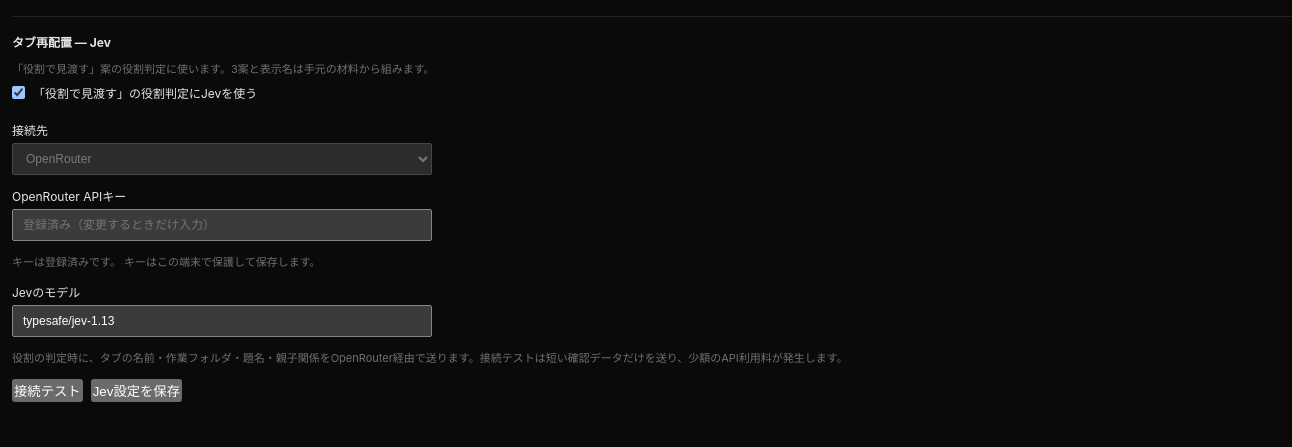
Scenario: Jev settings › renders a saved-key placeholder with an empty password field and saves without exposing it
Check: the password field labelled "OpenRouter APIキー" is empty, box [12,209,432,241]
Click the button "Jev設定を保存" at [136, 391], box [91,379,182,402]
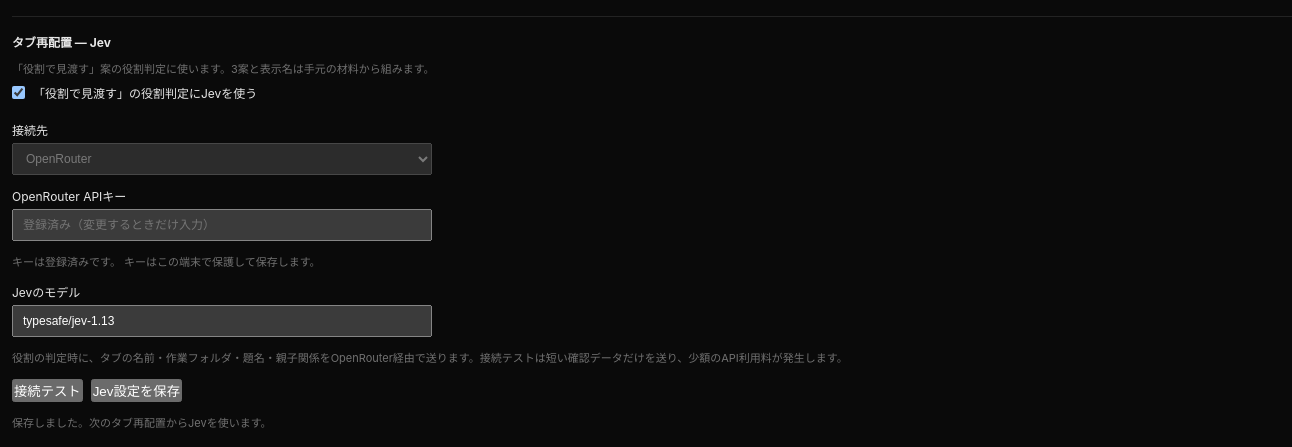
Check: the message "保存しました。次のタブ再配置からJevを使います。" is shown, box [12,416,272,430]
